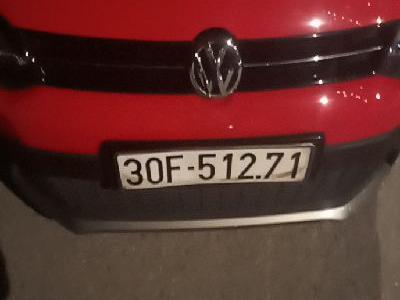car: (114, 143, 319, 191)
